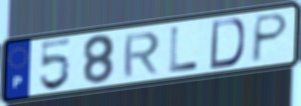5: (38, 36, 72, 93)
8: (81, 33, 116, 86)
D: (207, 17, 246, 71)
L: (168, 25, 200, 75)
P: (249, 11, 291, 65)
R: (121, 30, 163, 79)
